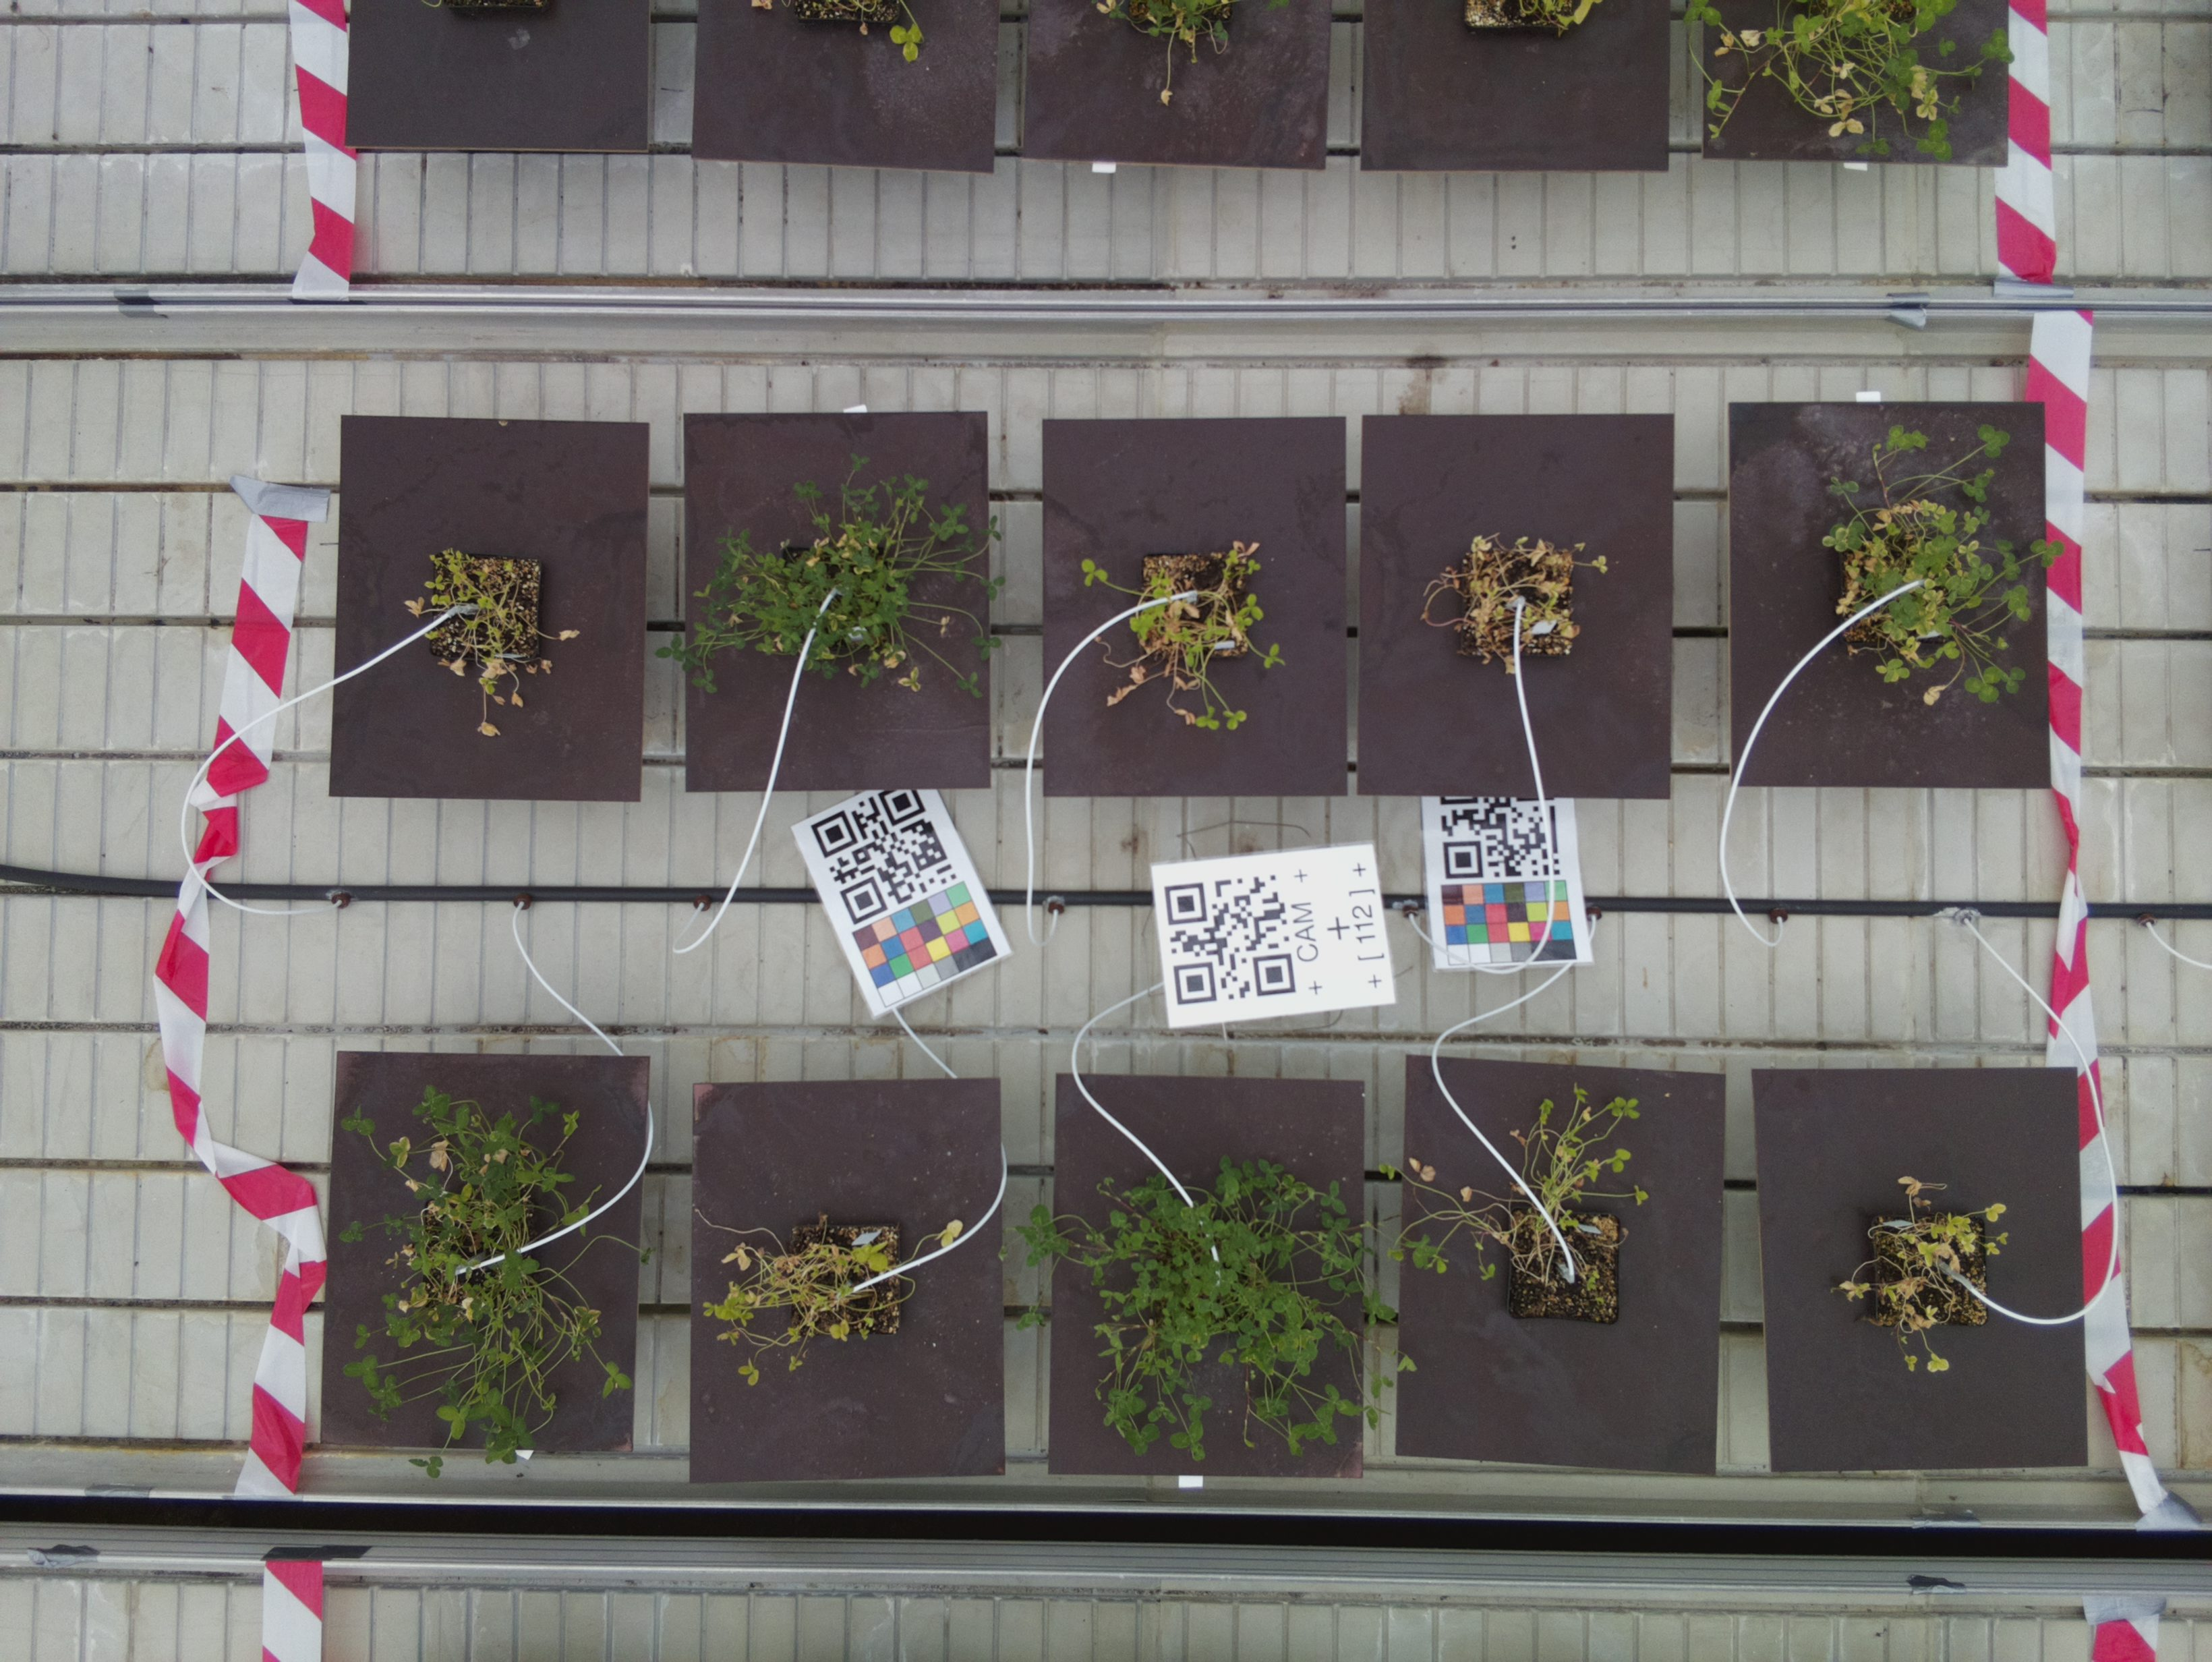POT: (1749, 1068, 2090, 1475), (1405, 1051, 1728, 1479), (1056, 1070, 1365, 1480), (337, 1051, 644, 1459), (1728, 402, 2048, 791), (693, 1086, 1006, 1480), (339, 409, 646, 805), (1364, 410, 1676, 796), (686, 410, 997, 787), (1041, 419, 1351, 796)
QRCODE: (1149, 843, 1398, 1028)
QRCOLOR: (794, 791, 1018, 1018), (1423, 798, 1590, 976)
